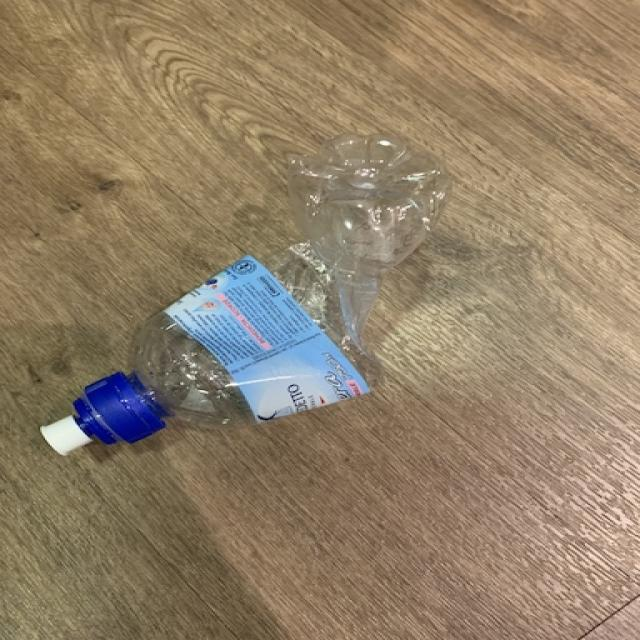Waste: (40, 134, 452, 456)
